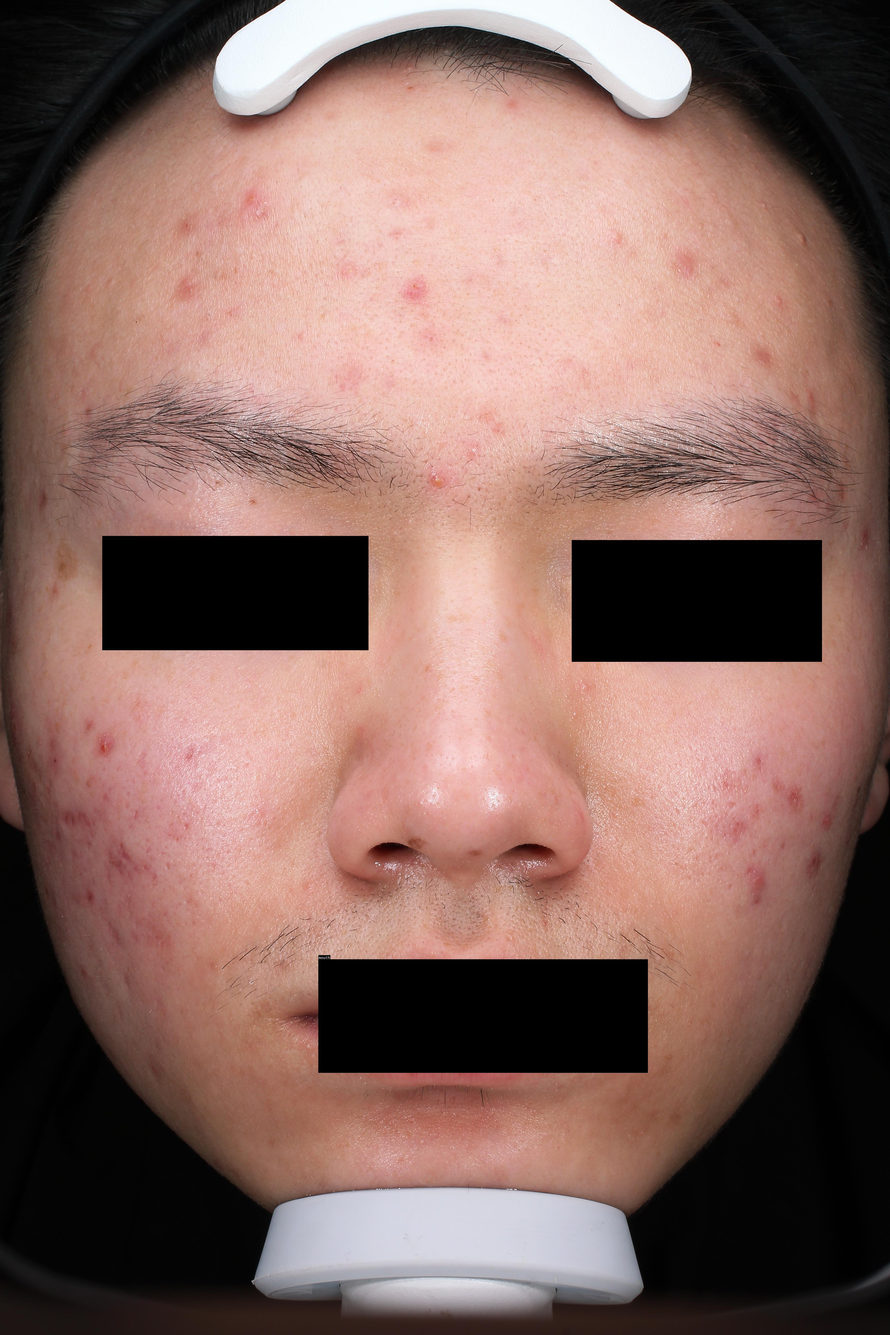atrophic_scar: (131, 919, 173, 948), (243, 200, 272, 221), (59, 813, 81, 833), (149, 1060, 165, 1087), (731, 819, 750, 841), (787, 788, 805, 811), (108, 920, 123, 946), (808, 394, 820, 424), (108, 852, 123, 874), (832, 793, 846, 816), (861, 528, 873, 549), (30, 754, 41, 776), (136, 750, 148, 770), (753, 801, 764, 822), (82, 887, 95, 904), (79, 813, 93, 828), (45, 842, 58, 858), (754, 756, 765, 773), (122, 972, 131, 988), (699, 819, 711, 829), (122, 852, 133, 862), (37, 816, 47, 827), (52, 831, 63, 841), (726, 802, 737, 812), (143, 846, 153, 856), (141, 863, 152, 872), (674, 805, 682, 817), (186, 747, 193, 760), (725, 882, 734, 892), (685, 849, 697, 856), (44, 786, 52, 796), (132, 811, 140, 820), (70, 849, 78, 858), (715, 853, 724, 861), (181, 824, 191, 831), (50, 803, 58, 811), (118, 842, 125, 851), (184, 898, 193, 905), (164, 862, 171, 870), (536, 355, 544, 362), (86, 841, 92, 849), (125, 800, 130, 809), (125, 791, 130, 797)
closed_comedo: (580, 681, 590, 690), (758, 201, 767, 210), (749, 161, 758, 169), (743, 132, 751, 140), (407, 66, 413, 72), (213, 963, 219, 969), (305, 1043, 311, 1049), (711, 192, 715, 198), (755, 170, 759, 174)
melasma: (53, 543, 79, 581)
nevus: (39, 491, 49, 512), (407, 838, 424, 848), (84, 407, 93, 416), (470, 850, 483, 856), (250, 498, 257, 506)
nodule: (9, 707, 21, 743)
open_comedo: (388, 194, 404, 208), (427, 142, 443, 152), (425, 335, 436, 344), (204, 316, 210, 321), (491, 197, 495, 202)
other: (96, 736, 110, 754), (183, 653, 190, 658), (135, 320, 139, 324)
papule: (674, 252, 695, 277), (406, 278, 427, 300), (806, 854, 823, 878), (178, 278, 197, 298), (751, 869, 765, 889), (428, 471, 444, 487), (245, 190, 260, 205), (469, 443, 481, 458), (611, 231, 623, 245), (821, 815, 833, 829), (796, 231, 807, 245), (343, 263, 354, 275), (81, 966, 90, 979), (508, 101, 517, 110), (776, 297, 783, 306), (107, 278, 114, 286)
